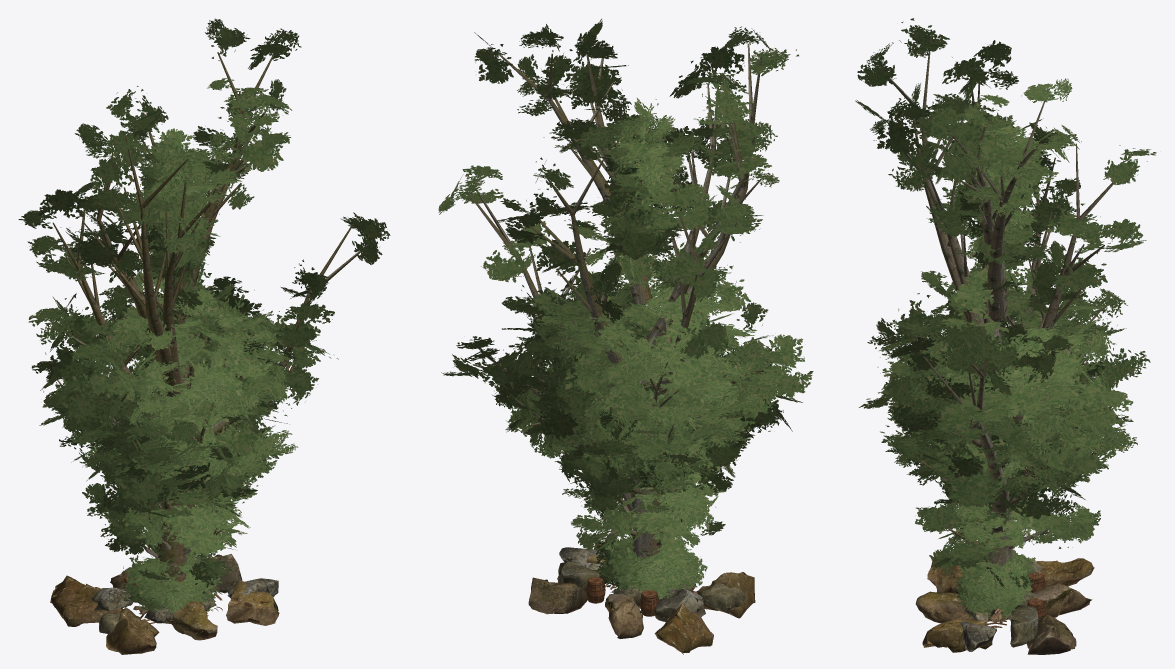
File: foliage.glb
3 renders of one model, left to right at view 1: azimuth 30°, elevation 25°; view 2: azimuth 150°, elevation 25°; view 3: azimuth 270°, elevation 25°, orthographic. The views are drawn at different scales.
Visible parts, largest first — view 1: poplar__1, oak_c__1, oak_a__1, poplar__0, oak_b__1, apple__1, shrub_c__1, rock_moss_set_01__0, rock_moss_set_01__3, rock_moss_set_01__5, rock_moss_set_01__4, shrub_a__1 (+2 smaller); view 2: poplar__1, oak_c__1, oak_a__1, poplar__0, oak_b__1, apple__1, shrub_c__1, shrub_a__1, rock_moss_set_01__0, rock_moss_set_01__2, rock_moss_set_01__1, rock_moss_set_02__4 (+5 smaller); view 3: poplar__1, oak_c__1, oak_a__1, poplar__0, oak_b__1, apple__1, shrub_c__1, shrub_a__1, rock_moss_set_01__2, rock_moss_set_01__4, rock_moss_set_01__1, rock_moss_set_01__5 (+5 smaller).
Boxes of the visible parts, box(x1,y1,x2,y2) form: poplar__1: box(18, 18, 390, 397); oak_c__1: box(39, 263, 338, 489); oak_a__1: box(31, 315, 287, 511); poplar__0: box(52, 52, 372, 623); oak_b__1: box(71, 364, 298, 531); apple__1: box(82, 473, 257, 593); shrub_c__1: box(120, 551, 222, 609); rock_moss_set_01__0: box(50, 575, 122, 626); rock_moss_set_01__3: box(106, 607, 159, 654); rock_moss_set_01__5: box(226, 579, 279, 625); rock_moss_set_01__4: box(167, 601, 217, 640); shrub_a__1: box(129, 552, 216, 613); poplar__1: box(438, 19, 798, 377); oak_c__1: box(441, 246, 813, 475); oak_a__1: box(492, 281, 802, 488); poplar__0: box(467, 43, 761, 608); oak_b__1: box(554, 380, 755, 513); apple__1: box(571, 454, 726, 577); shrub_c__1: box(591, 535, 707, 599); shrub_a__1: box(596, 536, 699, 590); rock_moss_set_01__0: box(654, 602, 713, 654); rock_moss_set_01__2: box(528, 577, 587, 614); rock_moss_set_01__1: box(605, 594, 643, 638); rock_moss_set_02__4: box(654, 589, 705, 624); poplar__1: box(855, 18, 1156, 400); oak_c__1: box(859, 259, 1150, 479); oak_a__1: box(880, 309, 1137, 496); poplar__0: box(888, 33, 1113, 621); oak_b__1: box(885, 380, 1116, 527); apple__1: box(915, 484, 1100, 589); shrub_c__1: box(954, 540, 1029, 619); shrub_a__1: box(959, 549, 1037, 611); rock_moss_set_01__2: box(1026, 614, 1076, 654); rock_moss_set_01__4: box(915, 591, 988, 623); rock_moss_set_01__1: box(1009, 583, 1092, 621); rock_moss_set_01__5: box(922, 617, 992, 652).
Bounding box in the file's own units: 16.78 × 24.87 × 12.24.
15 materials, 15 textured.
